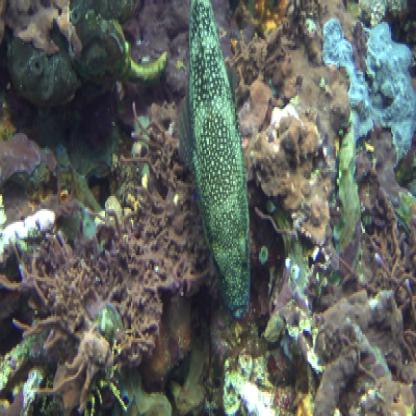grouper: (185, 1, 253, 321)
